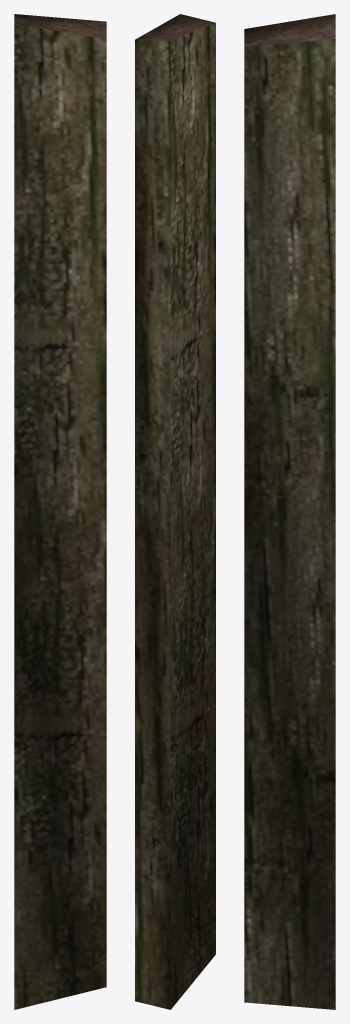
File: OW_LOB_WOODPLANKS_V2.glb
3 renders of one model, left to right at view 1: azimuth 90°, elevation 25°; view 2: azimuth 150°, elevation 25°; view 3: azimuth 270°, elevation 25°, orthographic.
Parts seen in each view (by area): view 1: Mesh; view 2: Mesh; view 3: Mesh.
Boxes of the visible parts, x1=… form: Mesh: x1=14, y1=14, x2=106, y2=1009; Mesh: x1=135, y1=14, x2=215, y2=1009; Mesh: x1=244, y1=14, x2=335, y2=1009.
Size of the model in its own units: 0.25 by 6.5 by 0.5499.
2 materials, 2 textured.
